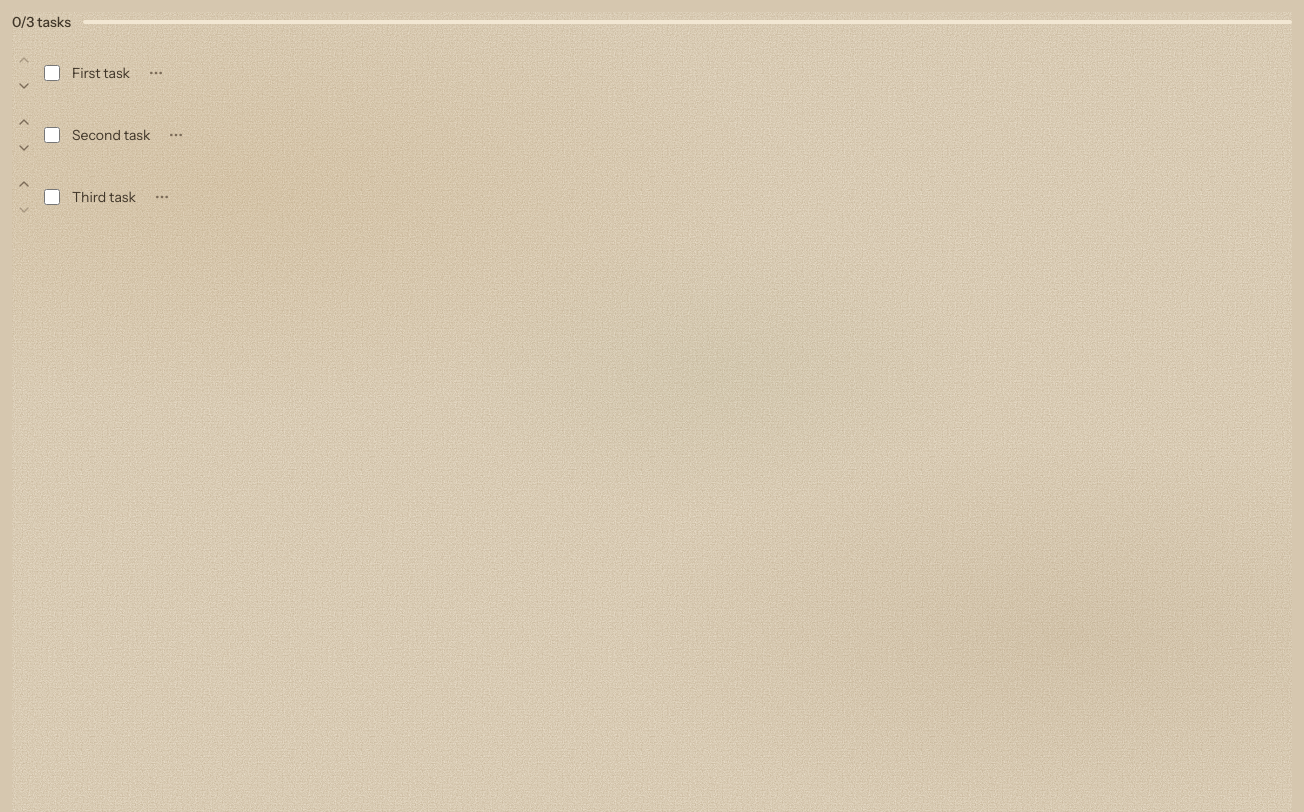
SESS-03: TaskSection (interactive mode) › clicking task description enters edit mode via EditableText
Click the text "First task" at (101, 73), box [68,61,134,85]
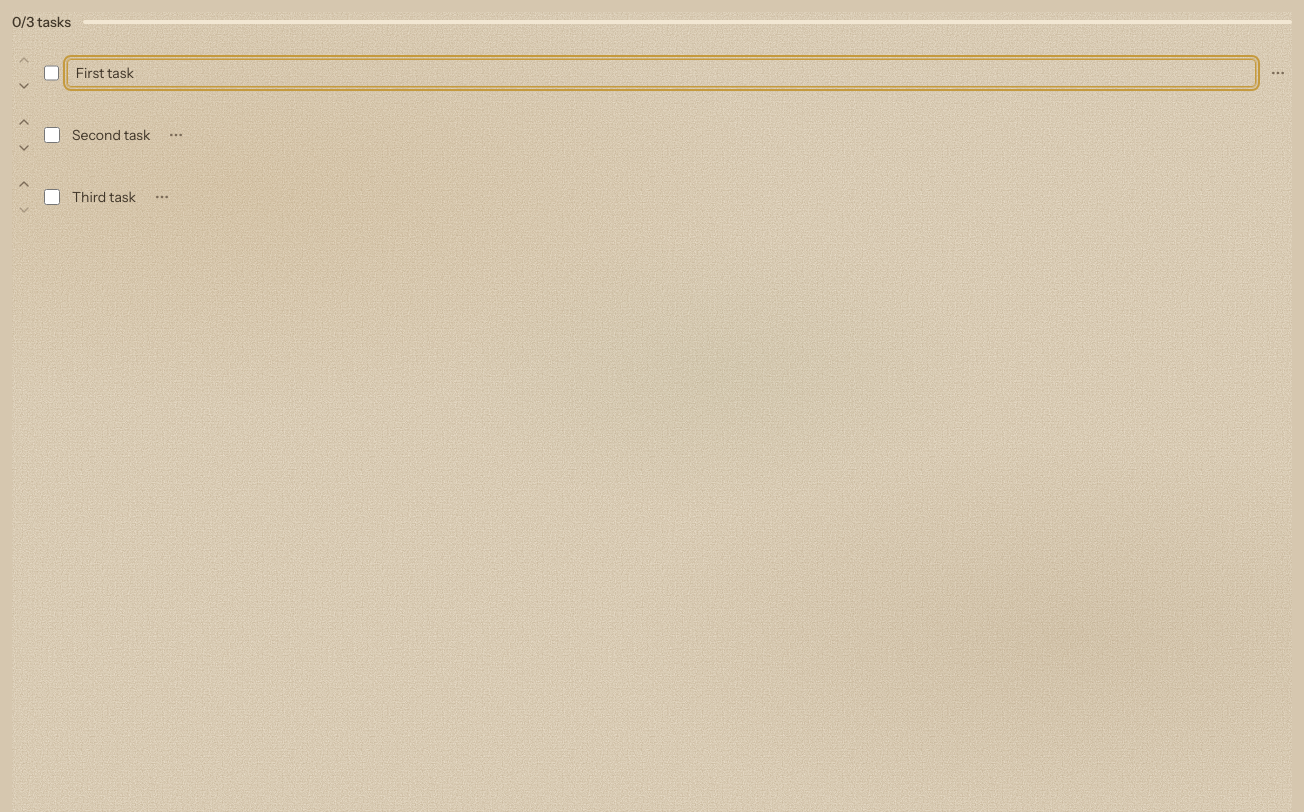
Expected: the field showing "First task" is shown, [67,59,1256,87]
